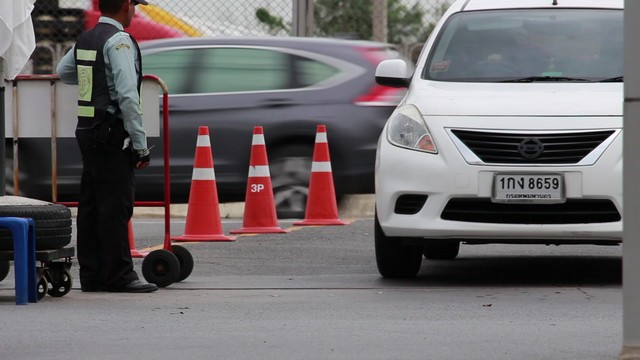in: (496, 174, 560, 200)
out: (491, 169, 567, 205)
